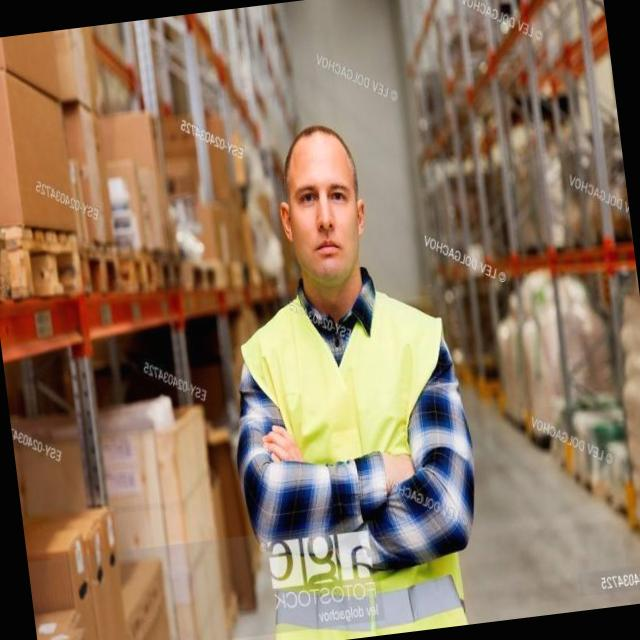boots: (428, 110, 429, 112)
no-helmet: (264, 120, 374, 287)
vest: (229, 272, 486, 640)
